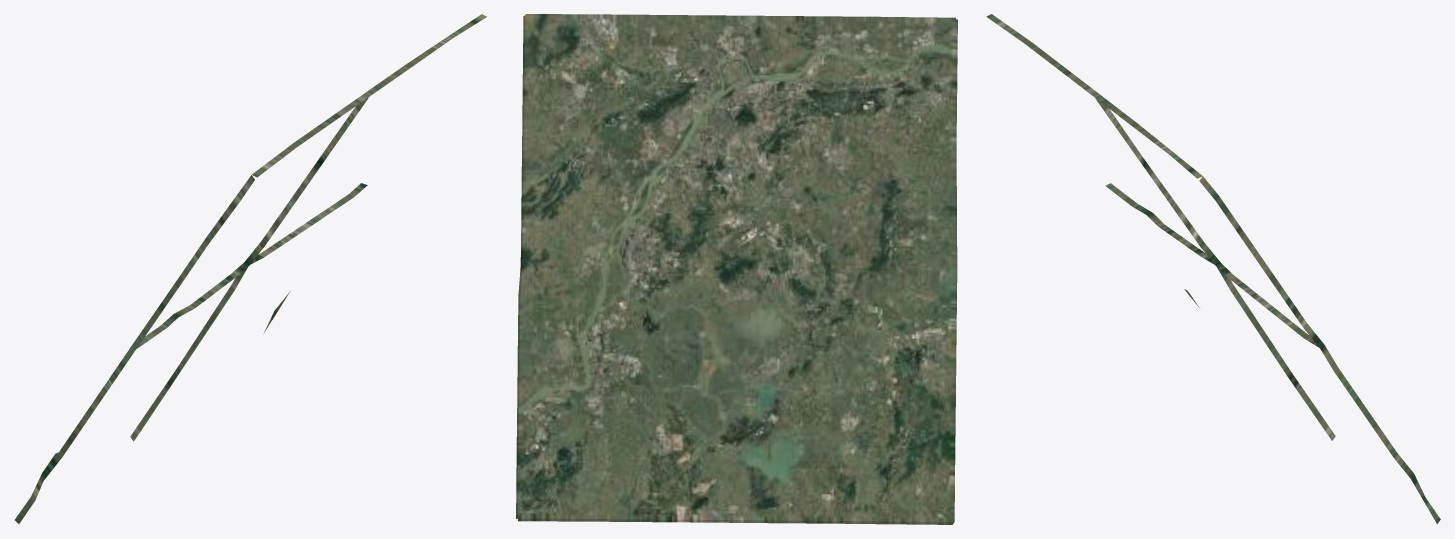
The picture shows the model from 3 angles, left to right: view 1: azimuth 30°, elevation 25°; view 2: azimuth 150°, elevation 25°; view 3: azimuth 270°, elevation 25°; orthographic projection. The views are drawn at different scales.
Bounding box in the file's own units: 158764 × 135303 × 138271.
1 material, 1 textured.
